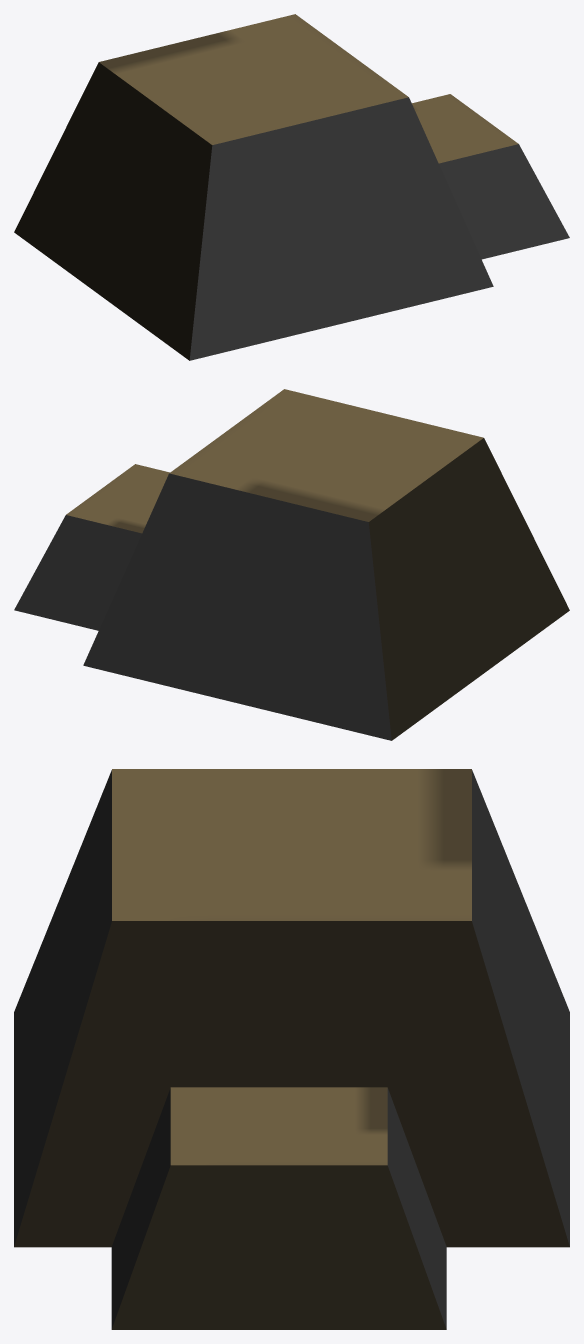
File: SM_Env_Rock_Grey_02.gltf
3 views of the same model, one above another, from view 1: azimuth 30°, elevation 25°; view 2: azimuth 150°, elevation 25°; view 3: azimuth 270°, elevation 25° (orthographic). The views are drawn at different scales.
Visible parts, largest first — view 1: SM_Env_Rock_Grey_02; view 2: SM_Env_Rock_Grey_02; view 3: SM_Env_Rock_Grey_02.
Part boxes in pixels (x1=…): SM_Env_Rock_Grey_02: x1=14, y1=14, x2=569, y2=360; SM_Env_Rock_Grey_02: x1=14, y1=389, x2=569, y2=740; SM_Env_Rock_Grey_02: x1=14, y1=769, x2=569, y2=1329.
Bounding box in the file's own units: 1.44 × 0.6003 × 1.06.
1 material, 1 textured.
